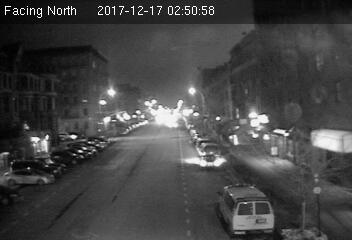car: (197, 153, 224, 172)
police: (217, 182, 274, 235)
